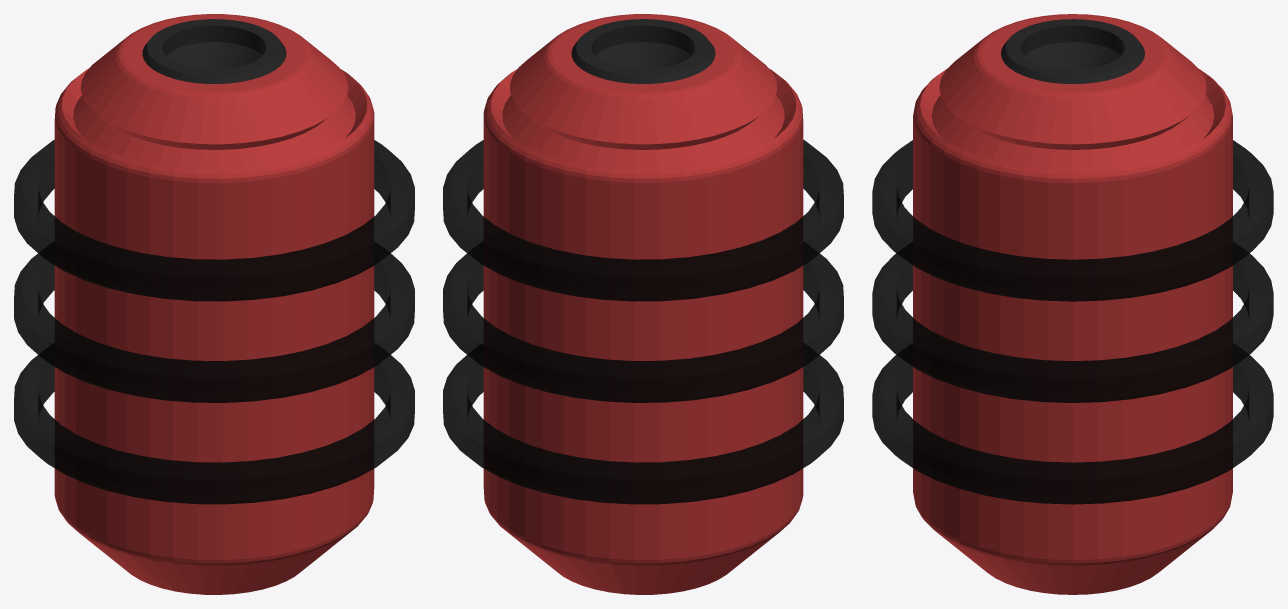
The model's file is fuel_cell.fbx.
The picture shows the model from 3 angles, left to right: view 1: azimuth 30°, elevation 25°; view 2: azimuth 150°, elevation 25°; view 3: azimuth 270°, elevation 25°; orthographic projection.
Parts seen in each view (by area): view 1: pCylinder6, pPipe1, pPipe3, pPipe2, pCylinder5; view 2: pCylinder6, pPipe1, pPipe3, pPipe2, pCylinder5; view 3: pCylinder6, pPipe1, pPipe2, pPipe3, pCylinder5.
Part boxes in pixels (x1=…): pCylinder6: x1=54, y1=14, x2=374, y2=594; pPipe1: x1=14, y1=139, x2=414, y2=301; pPipe3: x1=14, y1=355, x2=414, y2=504; pPipe2: x1=14, y1=253, x2=414, y2=402; pCylinder5: x1=142, y1=19, x2=286, y2=83; pCylinder6: x1=483, y1=14, x2=803, y2=594; pPipe1: x1=443, y1=139, x2=843, y2=301; pPipe3: x1=443, y1=355, x2=843, y2=504; pPipe2: x1=443, y1=253, x2=843, y2=402; pCylinder5: x1=571, y1=19, x2=715, y2=83; pCylinder6: x1=913, y1=14, x2=1232, y2=594; pPipe1: x1=872, y1=140, x2=1273, y2=301; pPipe2: x1=872, y1=253, x2=1273, y2=402; pPipe3: x1=872, y1=355, x2=1273, y2=504; pCylinder5: x1=1001, y1=19, x2=1144, y2=83.
Bounding box in the file's own units: 2.51 × 3.54 × 2.51.
